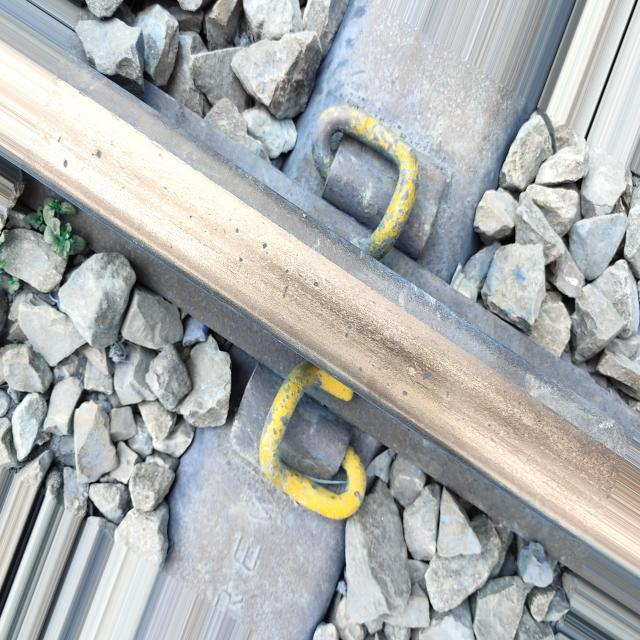Good Fasteners: (211, 346, 367, 528), (302, 106, 447, 262)
